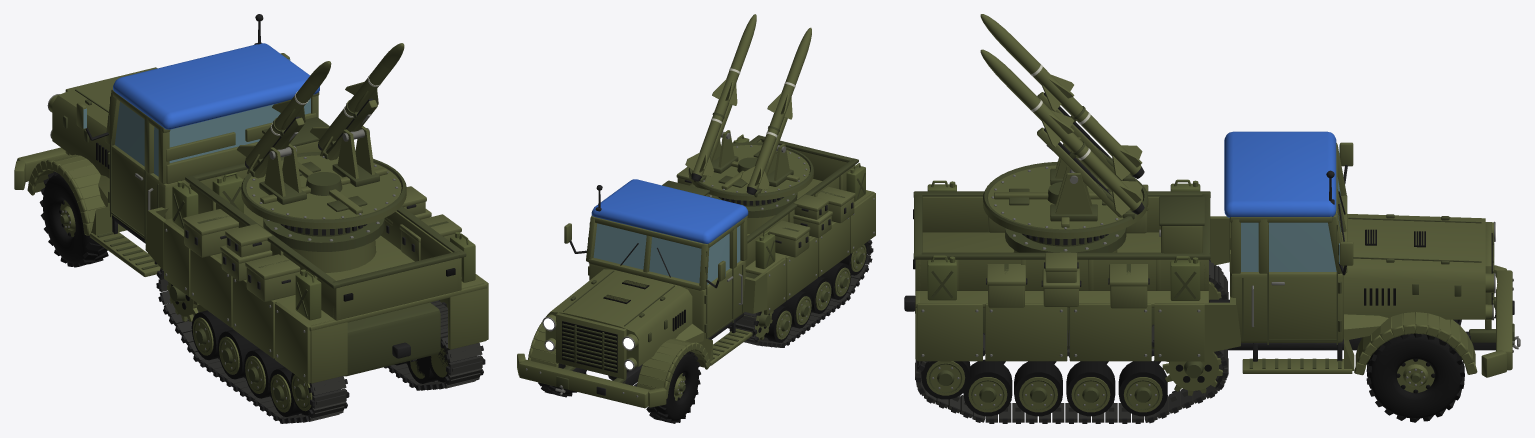
The model's file is missile_truck.glb.
3 views of the same model, side by side, from view 1: azimuth 30°, elevation 25°; view 2: azimuth 150°, elevation 25°; view 3: azimuth 270°, elevation 25° (orthographic). The views are drawn at different scales.
Visible parts, largest first — view 1: Body, Launcher, Wheel_FL; view 2: Body, Launcher, Wheel_FL; view 3: Body, Launcher, Wheel_FR.
Part boxes in pixels (left/top/right/bottom): Body: left=14, top=14, right=488, bottom=423; Launcher: left=237, top=43, right=406, bottom=236; Wheel_FL: left=39, top=171, right=108, bottom=267; Body: left=517, top=134, right=875, bottom=408; Launcher: left=685, top=14, right=813, bottom=206; Wheel_FL: left=646, top=351, right=700, bottom=423; Body: left=904, top=131, right=1520, bottom=423; Launcher: left=980, top=14, right=1148, bottom=246; Wheel_FR: left=1366, top=333, right=1464, bottom=422.
Bounding box in the file's own units: 0.6958 × 1.12 × 1.79.
